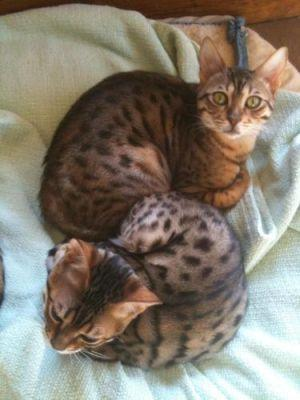bengal: (193, 27, 293, 156)
